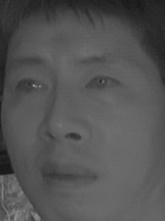eye: (80, 72, 122, 97), (11, 73, 50, 99)
mouth: (38, 156, 101, 194)
